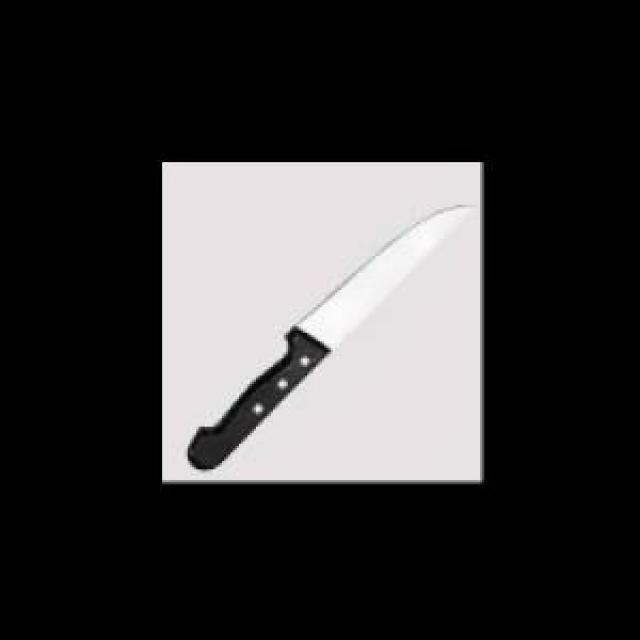knife: (190, 201, 480, 467)
